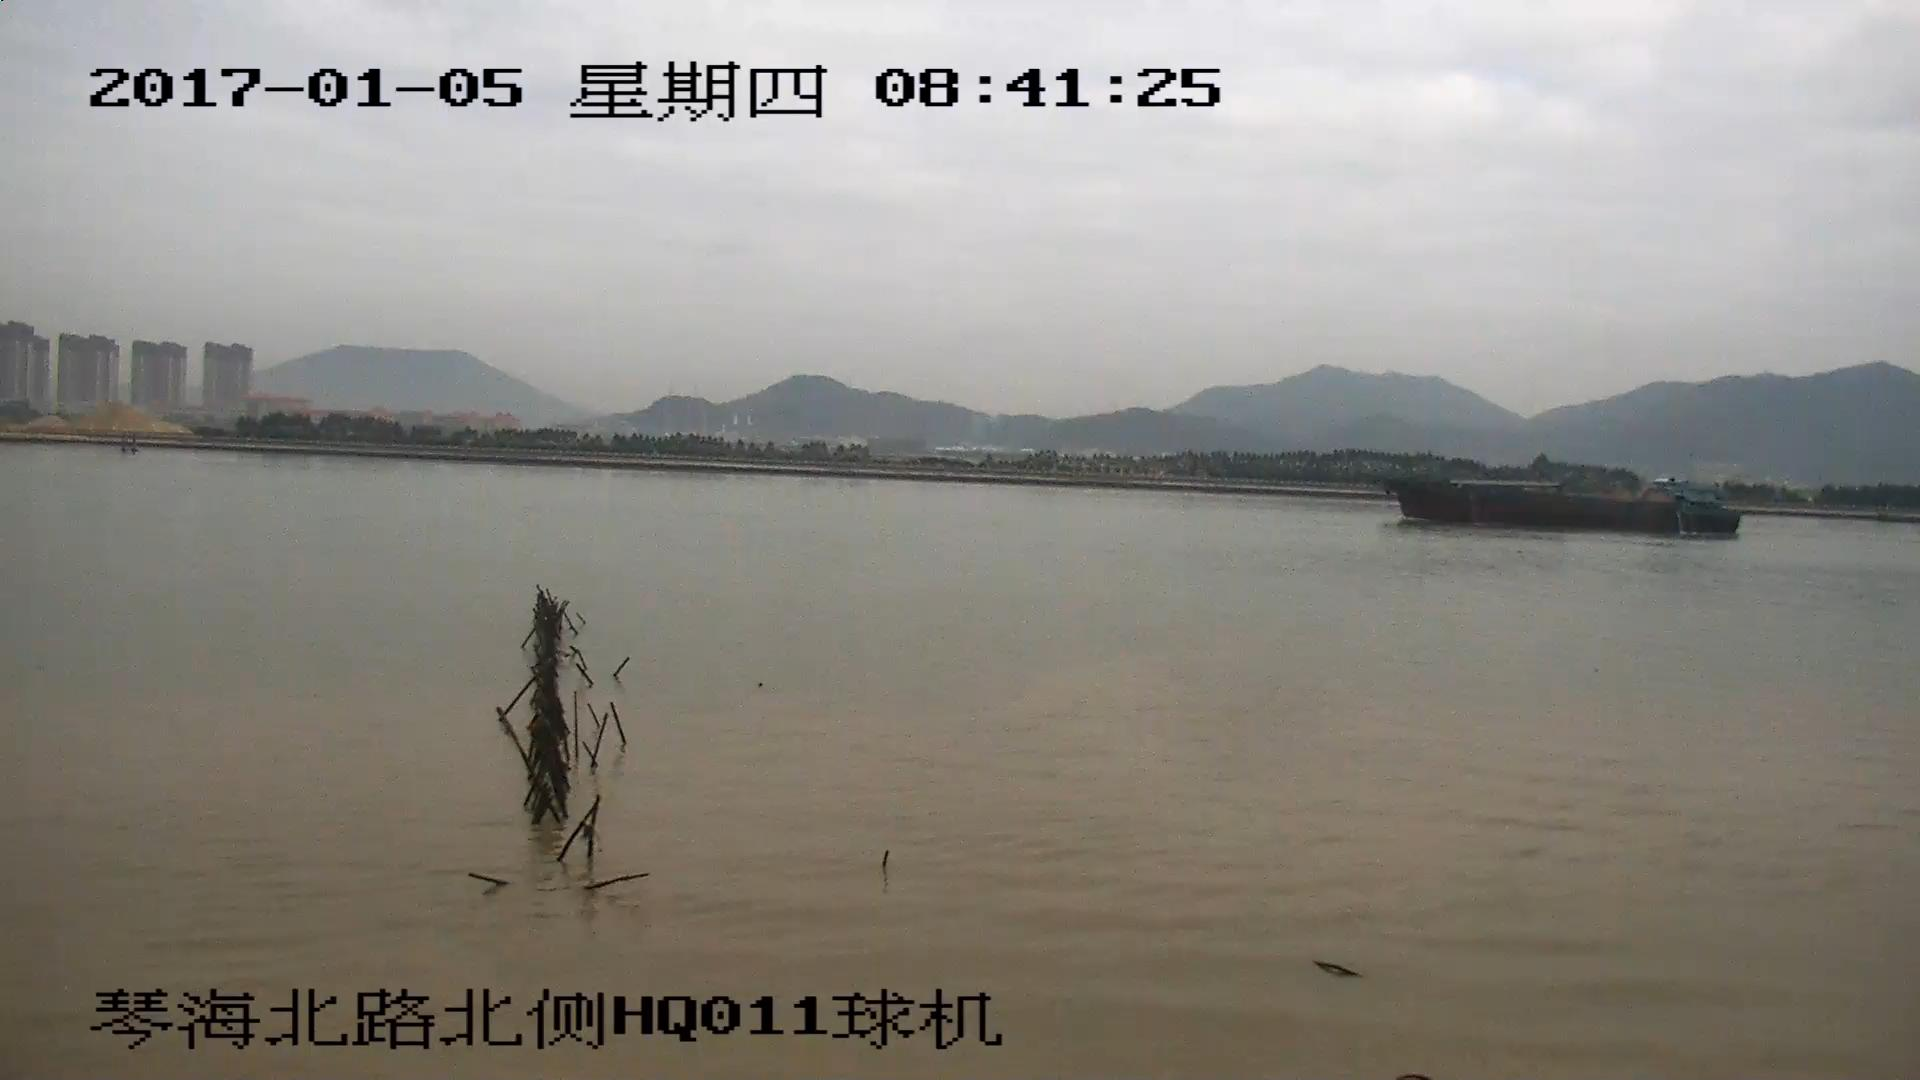bulk cargo carrier: (1390, 467, 1738, 532)
